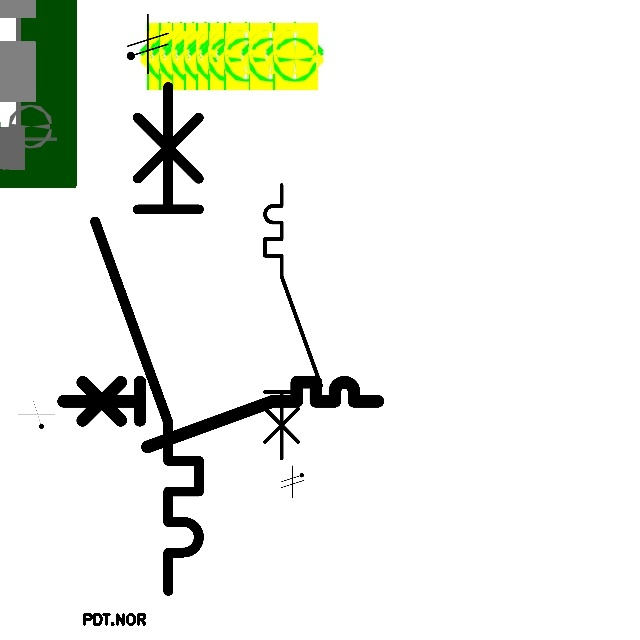interruptor_termomagnetico: (82, 73, 212, 603), (55, 374, 386, 455), (258, 178, 328, 465)
